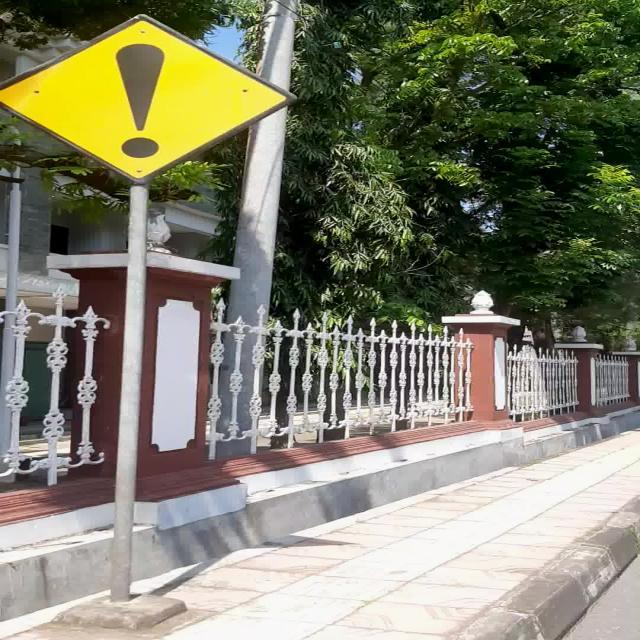Hati-Hati: (2, 13, 296, 184)
